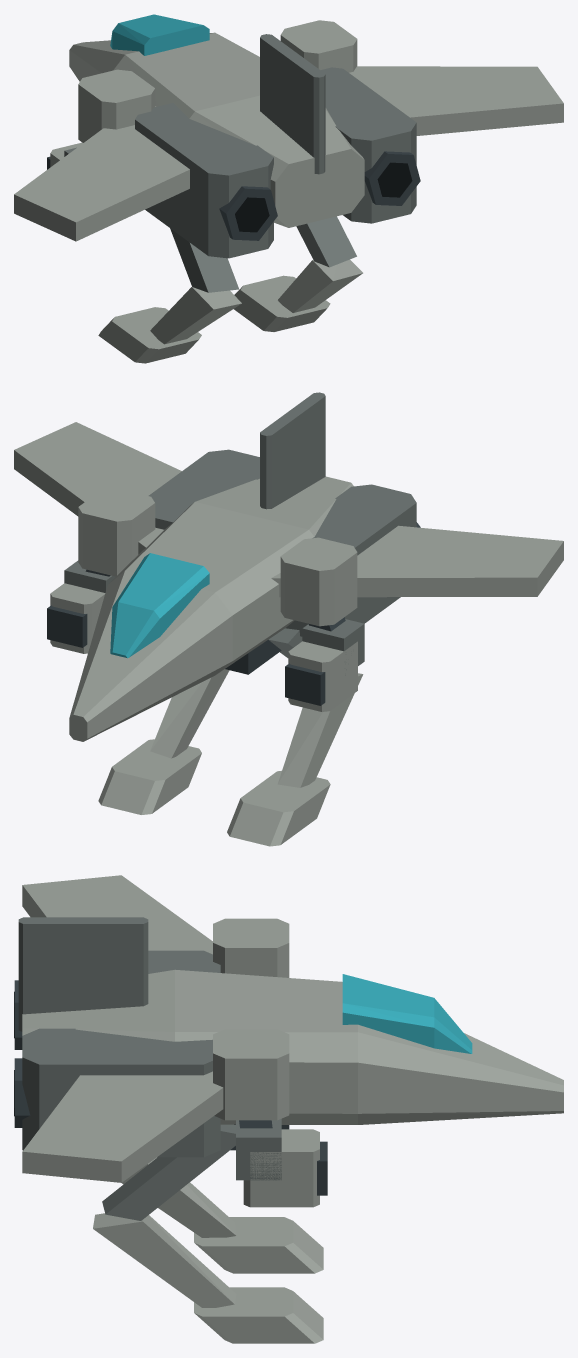
File: fallback-airmek-heavy.glb
3 renders of one model, top to bottom at view 1: azimuth 30°, elevation 25°; view 2: azimuth 150°, elevation 25°; view 3: azimuth 270°, elevation 25°, orthographic. The views are drawn at different scales.
Parts seen in each view (by area): view 1: LT, CT, wing-1, RT, wing1, LA, LL-foot, HD, RA, RL-foot, LL-shin, RL-shin (+2 smaller); view 2: LT, CT, wing-1, wing1, RT, LA, HD, RA, LL-foot, RL-foot, LL-shin, RL-shin (+8 smaller); view 3: RT, CT, wing1, RA, wing-1, HD, RL-foot, LL-foot, RL-shin, RA@forearm, LT, LA (+3 smaller).
Boxes of the visible parts, left/top/right/bottom form: LT: left=83, top=50, right=291, bottom=258; CT: left=69, top=34, right=348, bottom=227; wing-1: left=14, top=106, right=189, bottom=241; RT: left=206, top=32, right=420, bottom=223; wing1: left=349, top=66, right=563, bottom=135; LA: left=78, top=69, right=155, bottom=142; LL-foot: left=98, top=307, right=201, bottom=363; HD: left=110, top=14, right=209, bottom=55; RA: left=280, top=20, right=357, bottom=72; RL-foot: left=234, top=275, right=330, bottom=331; LL-shin: left=150, top=287, right=241, bottom=344; RL-shin: left=278, top=259, right=362, bottom=312; LT: left=139, top=482, right=420, bottom=710; CT: left=69, top=392, right=347, bottom=741; wing-1: left=271, top=525, right=563, bottom=597; wing1: left=14, top=422, right=181, bottom=554; RT: left=83, top=449, right=259, bottom=669; LA: left=280, top=537, right=357, bottom=631; HD: left=110, top=553, right=209, bottom=658; RA: left=78, top=488, right=155, bottom=576; LL-foot: left=227, top=770, right=330, bottom=846; RL-foot: left=98, top=739, right=201, bottom=814; LL-shin: left=277, top=673, right=363, bottom=787; RL-shin: left=150, top=669, right=229, bottom=758; RT: left=14, top=1016, right=489, bottom=1157; CT: left=18, top=917, right=563, bottom=1120; wing1: left=22, top=1071, right=223, bottom=1182; RA: left=213, top=1029, right=289, bottom=1128; wing-1: left=22, top=875, right=212, bottom=954; HD: left=342, top=974, right=472, bottom=1053; RL-foot: left=194, top=1287, right=323, bottom=1343; LL-foot: left=194, top=1217, right=323, bottom=1273; RL-shin: left=93, top=1213, right=236, bottom=1307; RA@forearm: left=243, top=1129, right=319, bottom=1207; LT: left=14, top=950, right=342, bottom=1049; LA: left=213, top=918, right=289, bottom=977.
Bounding box in the file's own units: 99.44 × 60.48 × 80.75.
